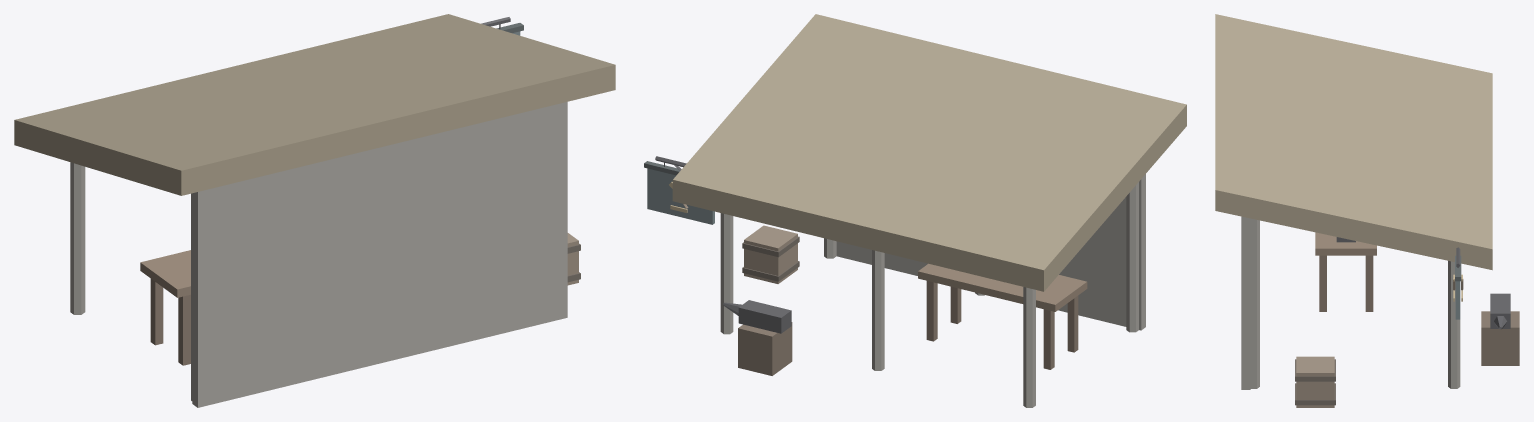
Rendered from workshop_1.gltf.
3 renders of one model, left to right at view 1: azimuth 30°, elevation 25°; view 2: azimuth 150°, elevation 25°; view 3: azimuth 270°, elevation 25°, orthographic. The views are drawn at different scales.
Visible parts, largest first — view 1: Body; view 2: Body; view 3: Body.
Boxes of the visible parts, box(x1,y1,x2,y2) form: Body: box(14, 14, 615, 407); Body: box(644, 14, 1186, 407); Body: box(1215, 14, 1519, 407).
Bounding box in the file's own units: 6.06 × 3.05 × 3.95.
